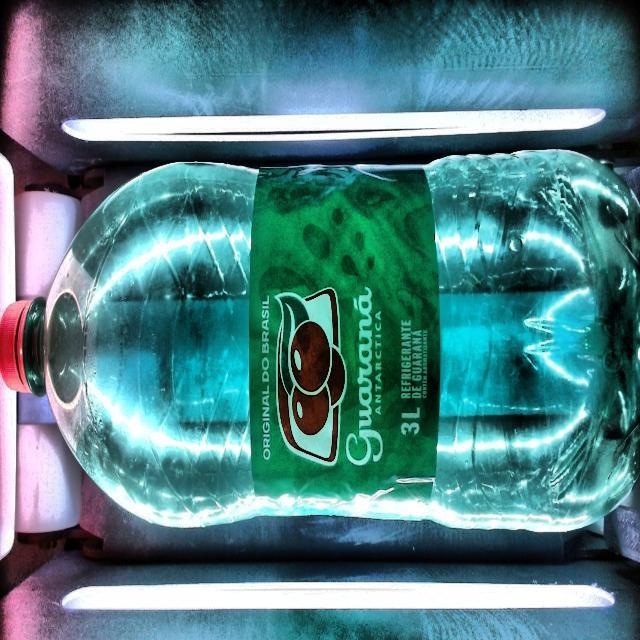bottom: (425, 151, 640, 529)
label: (249, 167, 440, 500)
neck: (4, 157, 245, 529)
